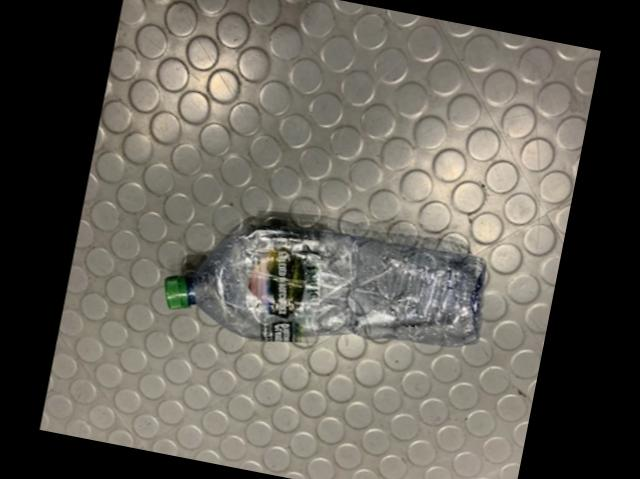plastic: (166, 220, 487, 347)
